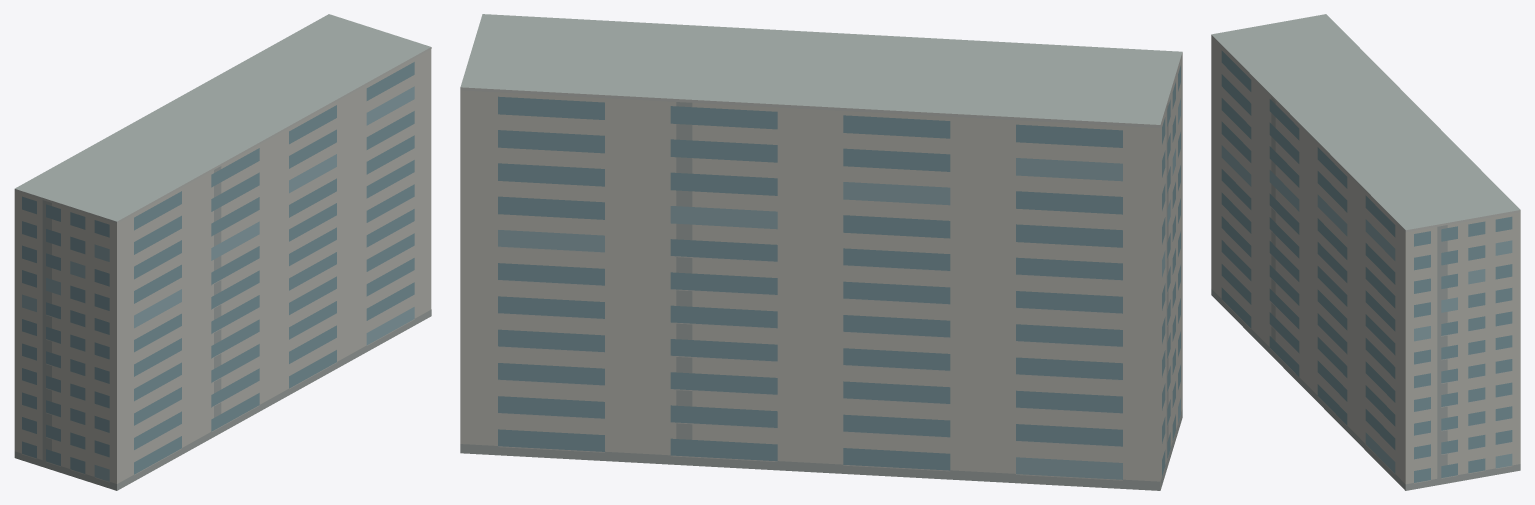
Rendered from residential-cc3c8c1f-1789-41e1-a63e-f87d86b618bb.glb.
3 views of the same model, side by side, from view 1: azimuth 30°, elevation 25°; view 2: azimuth 150°, elevation 25°; view 3: azimuth 270°, elevation 25° (orthographic). The views are drawn at different scales.
Parts seen in each view (by area): view 1: residential-cc3c8c1f-1789-41e1-a63e-f87d86b618bb.tmp; view 2: residential-cc3c8c1f-1789-41e1-a63e-f87d86b618bb.tmp; view 3: residential-cc3c8c1f-1789-41e1-a63e-f87d86b618bb.tmp.
Boxes of the visible parts, left/top/right/bottom form: residential-cc3c8c1f-1789-41e1-a63e-f87d86b618bb.tmp: left=14, top=14, right=431, bottom=490; residential-cc3c8c1f-1789-41e1-a63e-f87d86b618bb.tmp: left=460, top=14, right=1182, bottom=490; residential-cc3c8c1f-1789-41e1-a63e-f87d86b618bb.tmp: left=1211, top=14, right=1520, bottom=490.
Bounding box in the file's own units: 53.4 × 30 × 32.27.
